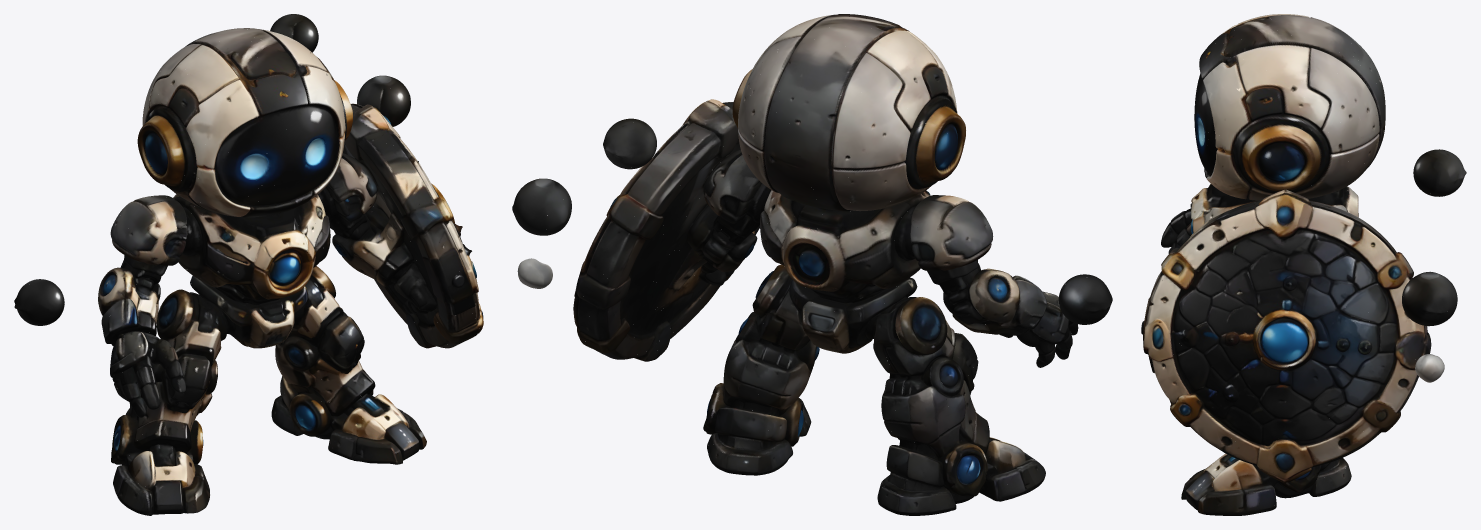
Rendered from stage_ii.glb.
3 renders of one model, left to right at view 1: azimuth 30°, elevation 25°; view 2: azimuth 150°, elevation 25°; view 3: azimuth 270°, elevation 25°, orthographic. The views are drawn at different scales.
Visible parts, largest first — view 1: tripo_node_5868027c-0636-448a-a916-1a68c197d160; view 2: tripo_node_5868027c-0636-448a-a916-1a68c197d160; view 3: tripo_node_5868027c-0636-448a-a916-1a68c197d160.
Boxes of the visible parts, box(x1,y1,x2,y2) form: tripo_node_5868027c-0636-448a-a916-1a68c197d160: box(14, 14, 483, 515); tripo_node_5868027c-0636-448a-a916-1a68c197d160: box(512, 14, 1112, 515); tripo_node_5868027c-0636-448a-a916-1a68c197d160: box(1141, 14, 1466, 515).
Size of the model in its own units: 1 by 0.8419 by 0.5883.
1 material, 1 textured.
